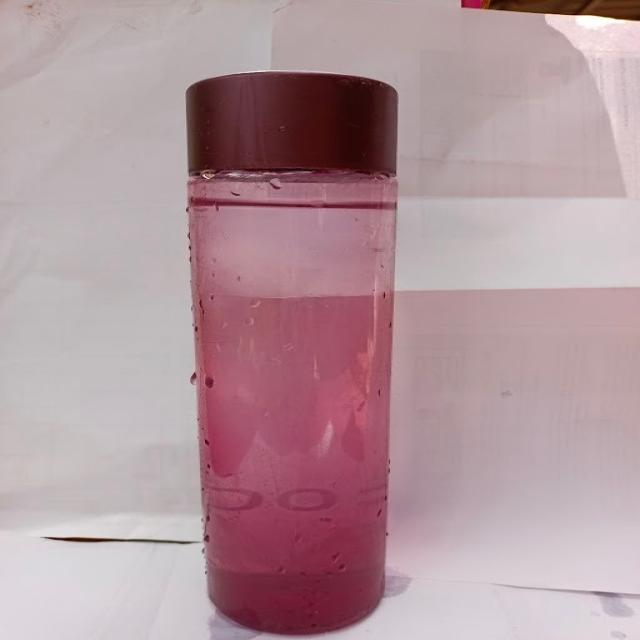bottle: (150, 17, 477, 640)
